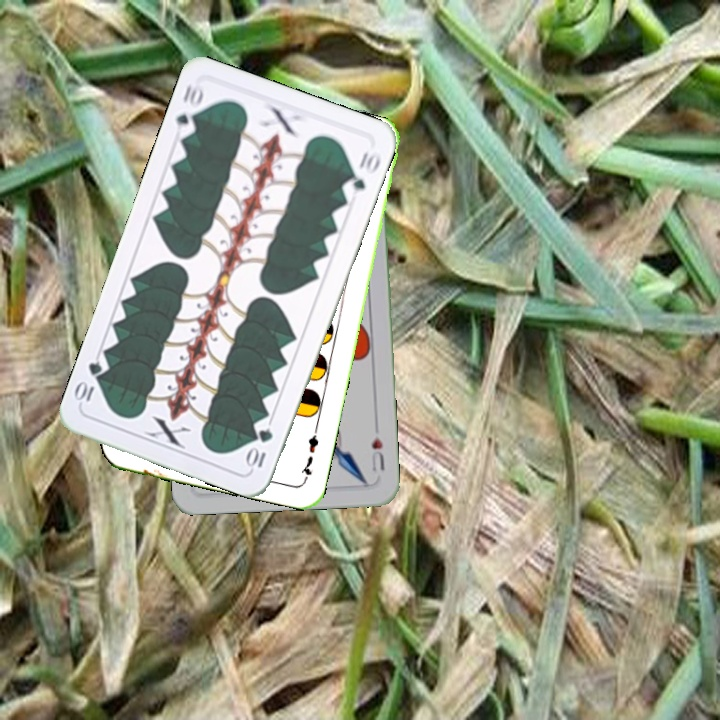E7: (297, 425, 321, 483)
G10: (171, 79, 207, 140), (243, 424, 276, 473)
HU: (367, 421, 388, 474)
